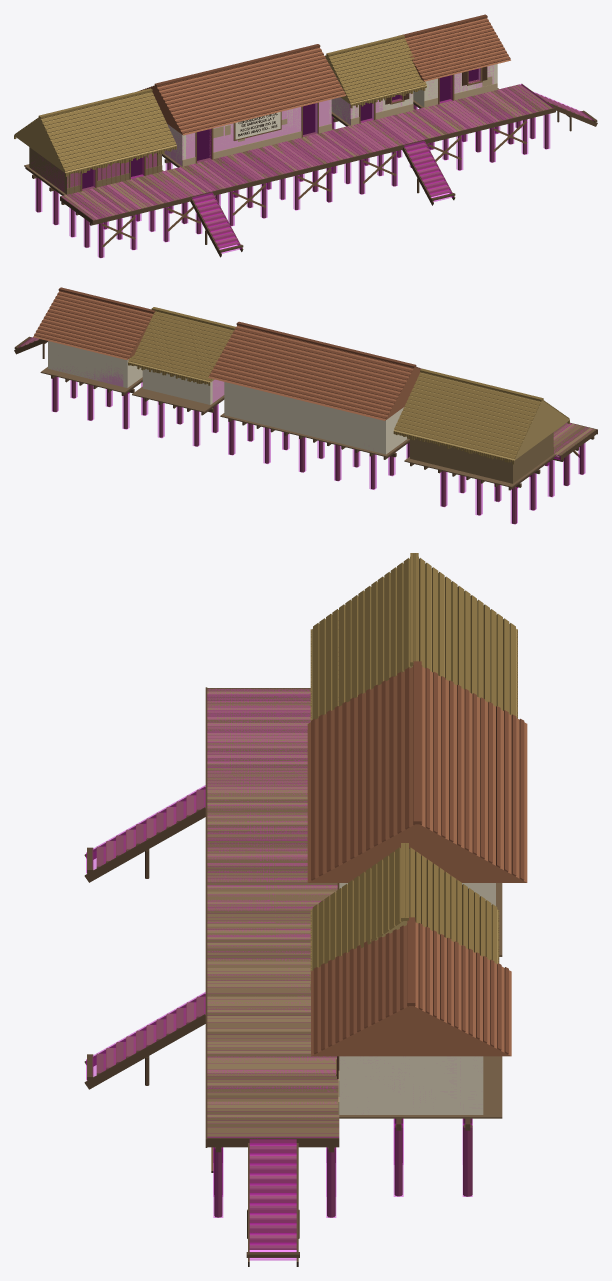
File: mini-puerto-barranquilla-1857.glb
The picture shows the model from 3 angles, top to bottom: view 1: azimuth 30°, elevation 25°; view 2: azimuth 150°, elevation 25°; view 3: azimuth 270°, elevation 25°; orthographic projection. The views are drawn at different scales.
Parts seen in each view (by area): view 1: Mini_Puerto_1857_PalmaOscura, Mini_Puerto_1857_TejaOscura, COL_Cubierta, Mini_Puerto_1857_MaderaPilote, Mini_Puerto_1857_Teja, Mini_Puerto_1857_TablaA, Mini_Puerto_1857_TablaB, Mini_Puerto_1857_TablaC, Mini_Puerto_1857_Palma, Mini_Puerto_1857_MaderaMarco, Mini_Puerto_1857_Encalado, COL_Casa_B (+10 smaller); view 2: Mini_Puerto_1857_PalmaOscura, Mini_Puerto_1857_TejaOscura, Mini_Puerto_1857_Encalado, Mini_Puerto_1857_Teja, Mini_Puerto_1857_MaderaPilote, Mini_Puerto_1857_Palma, Mini_Puerto_1857_TablaB, Mini_Puerto_1857_TablaPared; view 3: Mini_Puerto_1857_Teja, Mini_Puerto_1857_TejaOscura, Mini_Puerto_1857_PalmaOscura, Mini_Puerto_1857_TablaA, Mini_Puerto_1857_TablaB, Mini_Puerto_1857_TablaC, Mini_Puerto_1857_MaderaPilote, Mini_Puerto_1857_Encalado, COL_Cubierta, COL_Escalera_3, Mini_Puerto_1857_MaderaMarco, COL_Escalera_2 (+2 smaller).
Boxes of the visible parts, x1=… form: Mini_Puerto_1857_PalmaOscura: x1=14, y1=35, x2=426, y2=176; Mini_Puerto_1857_TejaOscura: x1=138, y1=14, x2=510, y2=133; COL_Cubierta: x1=62, y1=84, x2=552, y2=219; Mini_Puerto_1857_MaderaPilote: x1=25, y1=83, x2=597, y2=257; Mini_Puerto_1857_Teja: x1=145, y1=18, x2=510, y2=135; Mini_Puerto_1857_TablaA: x1=73, y1=84, x2=587, y2=243; Mini_Puerto_1857_TablaB: x1=24, y1=86, x2=592, y2=248; Mini_Puerto_1857_TablaC: x1=63, y1=89, x2=532, y2=219; Mini_Puerto_1857_Palma: x1=14, y1=38, x2=426, y2=173; Mini_Puerto_1857_MaderaMarco: x1=69, y1=68, x2=588, y2=247; Mini_Puerto_1857_Encalado: x1=164, y1=64, x2=497, y2=165; COL_Casa_B: x1=165, y1=100, x2=330, y2=165; Mini_Puerto_1857_PalmaOscura: x1=128, y1=307, x2=569, y2=464; Mini_Puerto_1857_TejaOscura: x1=34, y1=287, x2=421, y2=418; Mini_Puerto_1857_Encalado: x1=48, y1=341, x2=407, y2=454; Mini_Puerto_1857_Teja: x1=33, y1=291, x2=420, y2=420; Mini_Puerto_1857_MaderaPilote: x1=14, y1=336, x2=597, y2=523; Mini_Puerto_1857_Palma: x1=128, y1=311, x2=569, y2=460; Mini_Puerto_1857_TablaB: x1=20, y1=337, x2=595, y2=487; Mini_Puerto_1857_TablaPared: x1=410, y1=432, x2=553, y2=483; Mini_Puerto_1857_Teja: x1=307, y1=667, x2=527, y2=1056; Mini_Puerto_1857_TejaOscura: x1=311, y1=661, x2=524, y2=1054; Mini_Puerto_1857_PalmaOscura: x1=310, y1=553, x2=517, y2=989; Mini_Puerto_1857_TablaA: x1=106, y1=701, x2=339, y2=1238; Mini_Puerto_1857_TablaB: x1=96, y1=688, x2=502, y2=1249; Mini_Puerto_1857_TablaC: x1=207, y1=691, x2=339, y2=1117; Mini_Puerto_1857_MaderaPilote: x1=84, y1=687, x2=472, y2=1266; Mini_Puerto_1857_Encalado: x1=339, y1=883, x2=495, y2=1114; COL_Cubierta: x1=207, y1=689, x2=338, y2=1137; COL_Escalera_3: x1=250, y1=1139, x2=296, y2=1260; Mini_Puerto_1857_MaderaMarco: x1=106, y1=620, x2=339, y2=1244; COL_Escalera_2: x1=86, y1=992, x2=205, y2=1079.
Bounding box in the file's own units: 38.04 × 7.78 × 14.11.
